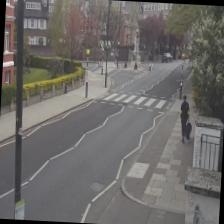person: (178, 94, 190, 142)
